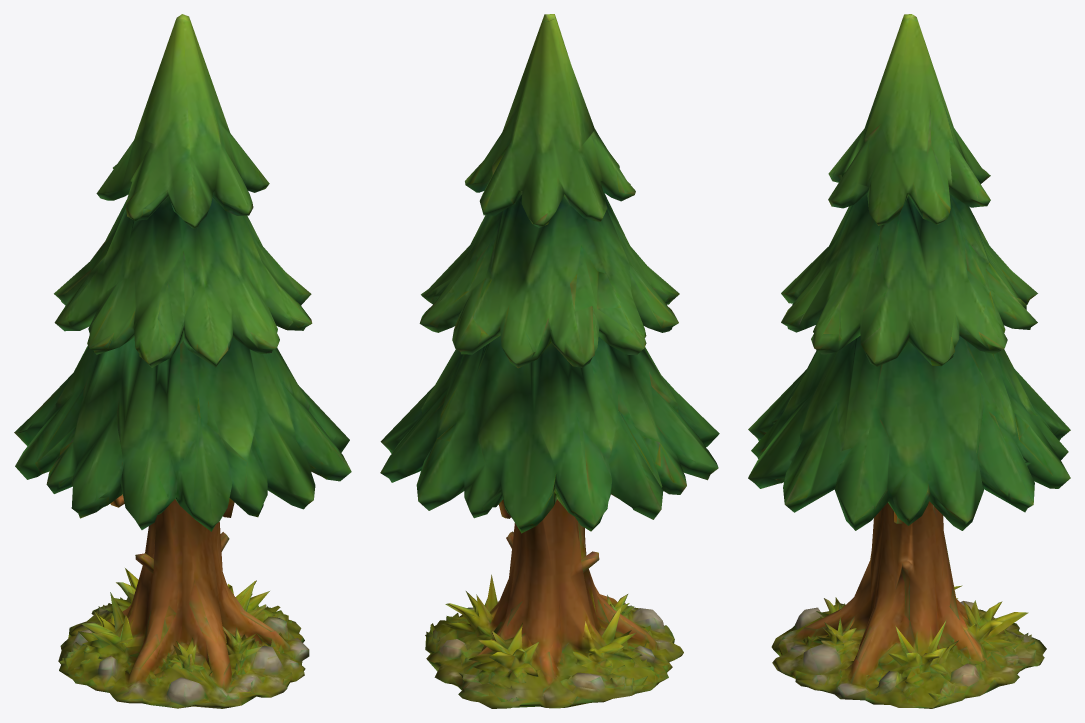
Rendered from tree-emerald-crown.glb.
3 renders of one model, left to right at view 1: azimuth 30°, elevation 25°; view 2: azimuth 150°, elevation 25°; view 3: azimuth 270°, elevation 25°, orthographic.
Visible parts, largest first — view 1: Mesh1.0; view 2: Mesh1.0; view 3: Mesh1.0.
Boxes of the visible parts, bbox=[...] form: Mesh1.0: bbox=[14, 14, 351, 708]; Mesh1.0: bbox=[380, 14, 719, 708]; Mesh1.0: bbox=[748, 14, 1070, 708].
Size of the model in its own units: 0.8675 by 1.9 by 0.8669.
Materials: 1 (1 with a texture image).
